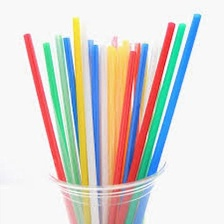drinking_straw: (133, 10, 206, 223), (19, 28, 73, 224), (68, 13, 91, 224)
glass: (42, 149, 173, 223)
